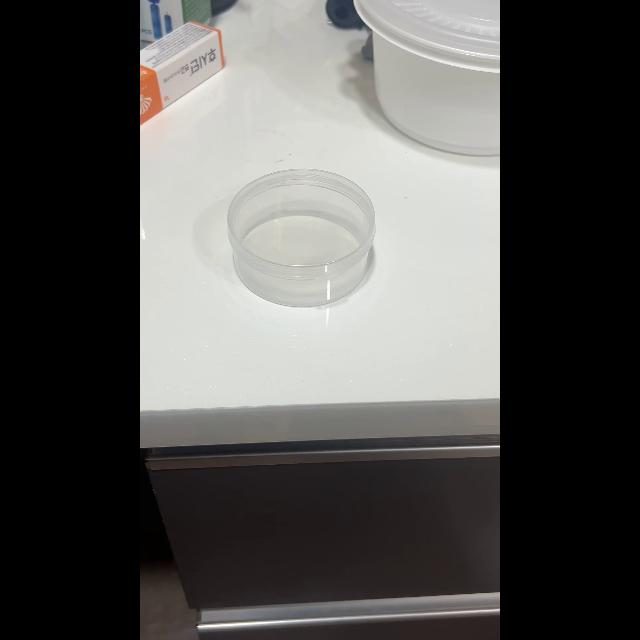clean: (226, 167, 376, 306)
